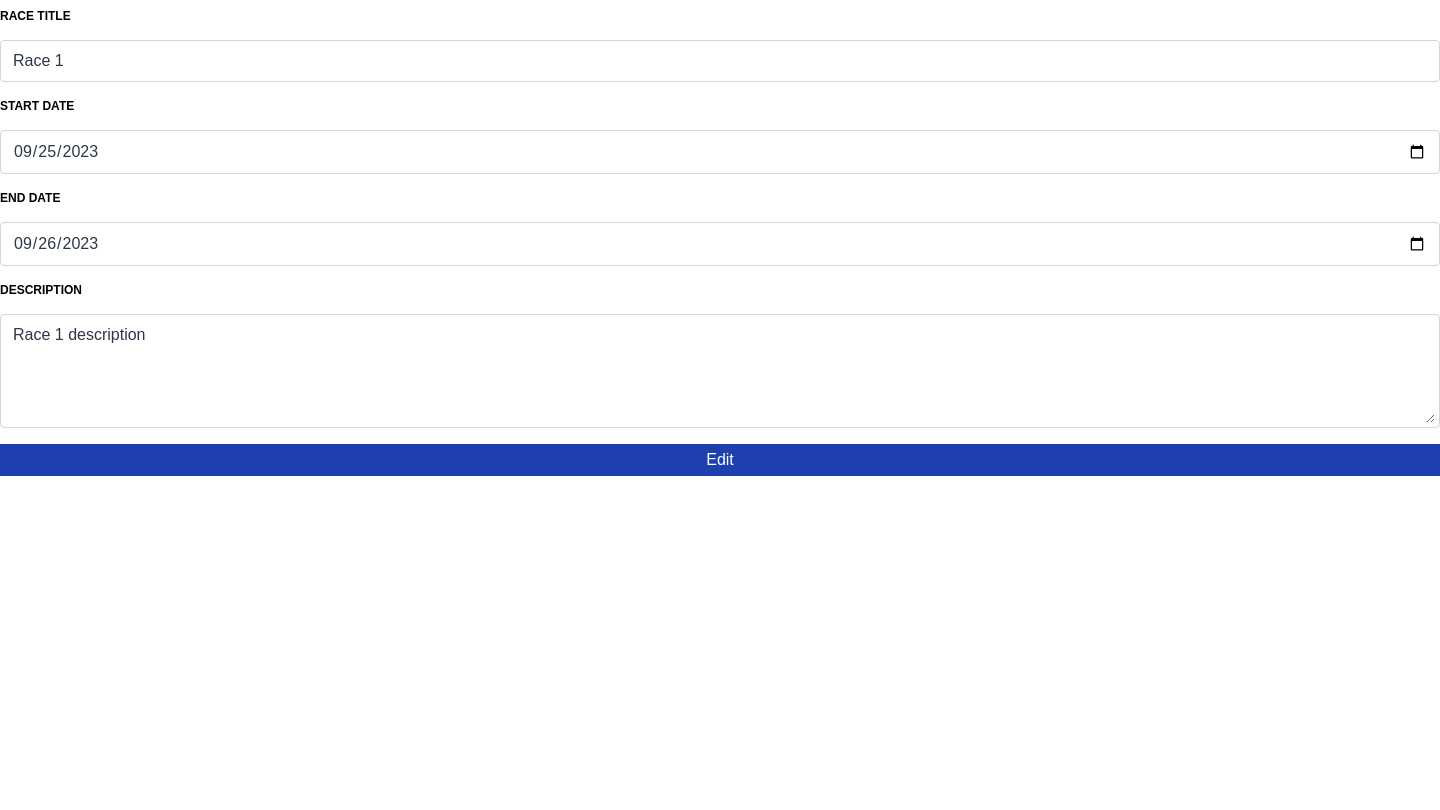
Test: RaceInformationView Component › shows alert message for invalid dates
# setting the start date later than the end date
Step 1. Type "2023-09-27" into the date field labelled "Start Date" → coordinates (720, 152), box left=5, top=135, right=1435, bottom=169
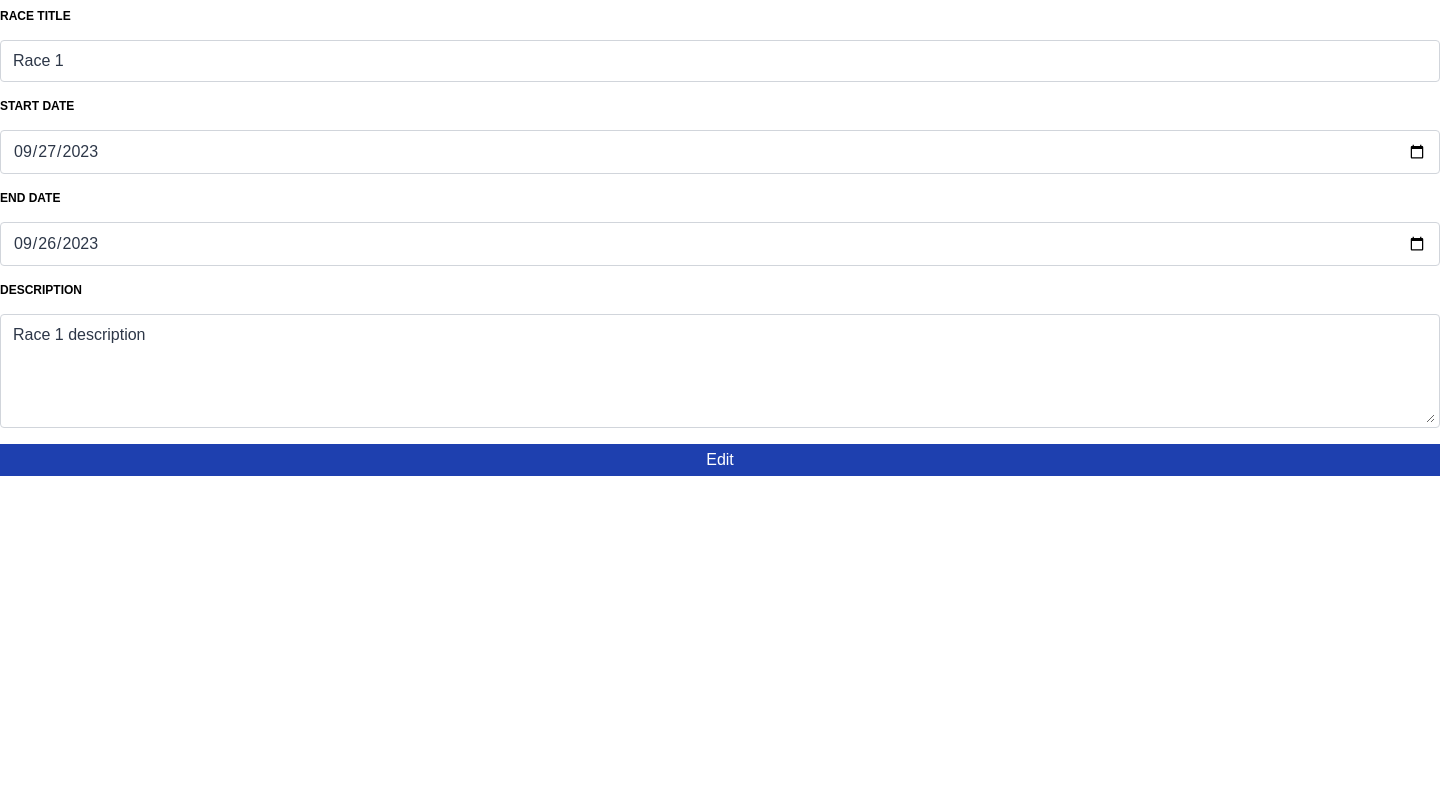
Step 2. Type "2023-09-25" into the date field labelled "End Date" → coordinates (720, 244), box left=5, top=227, right=1435, bottom=261
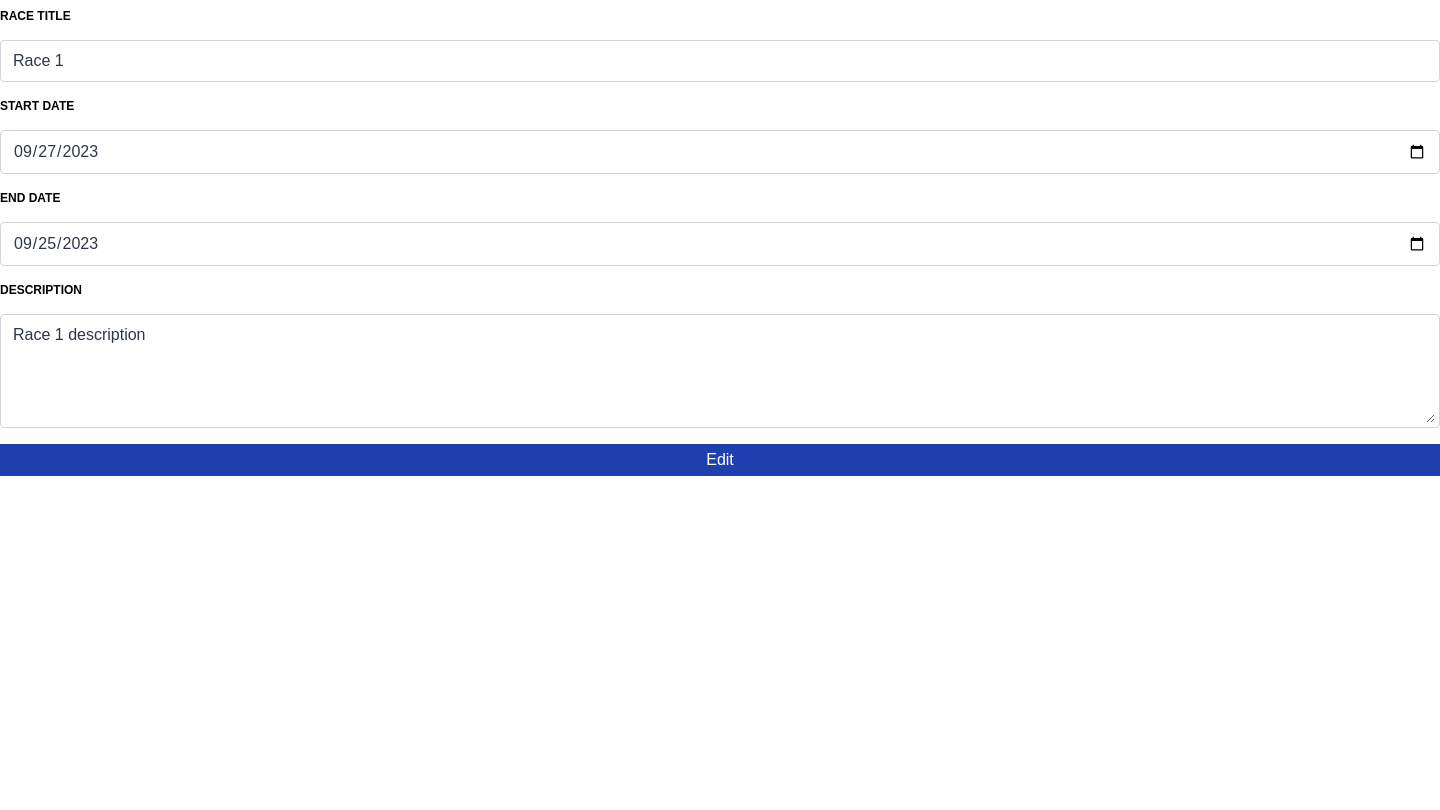
# Submit the form
Step 3. Submit the form from the button "Edit", box left=0, top=444, right=1439, bottom=476
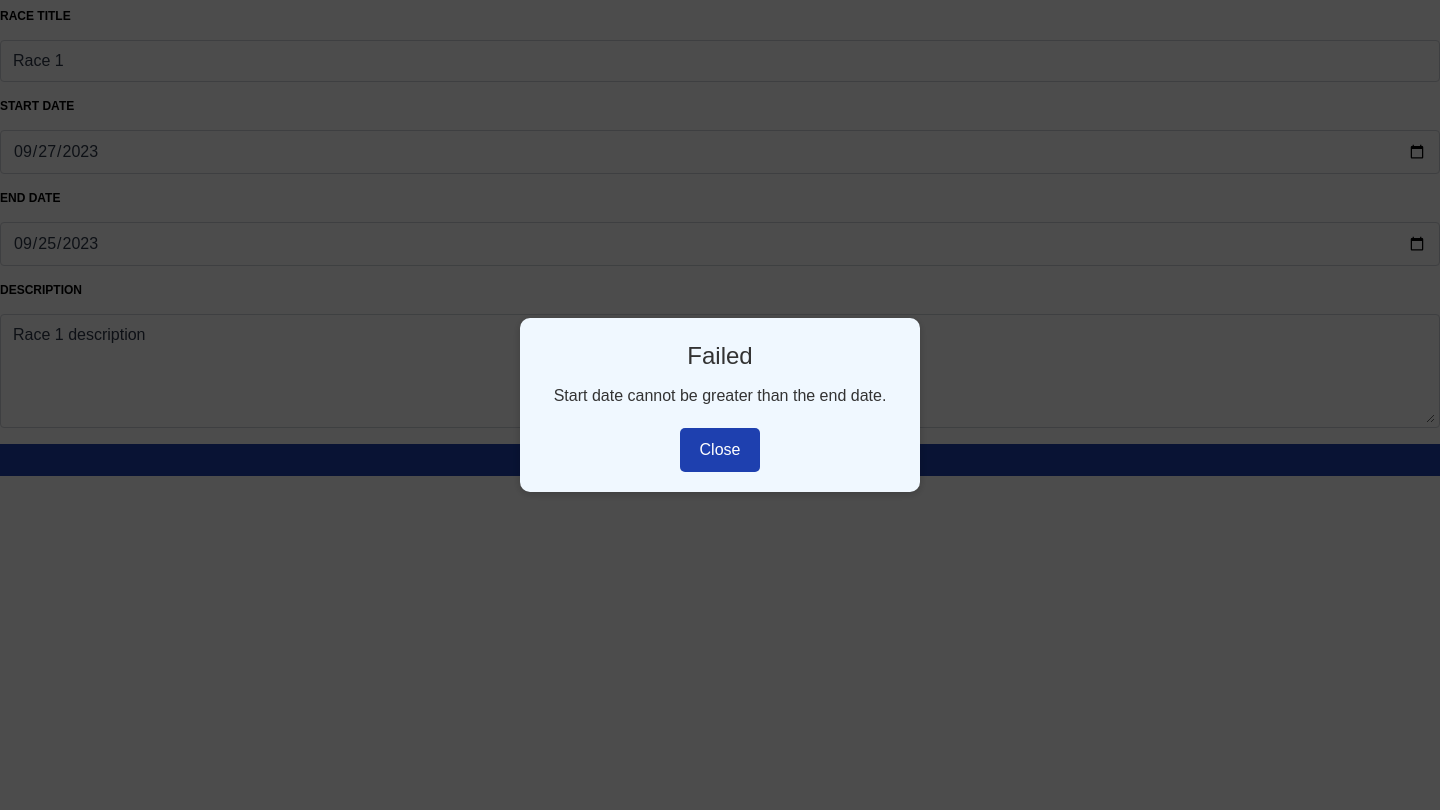
Expected: the text "Start date cannot be greater than the end date." is shown, left=540, top=384, right=900, bottom=408
